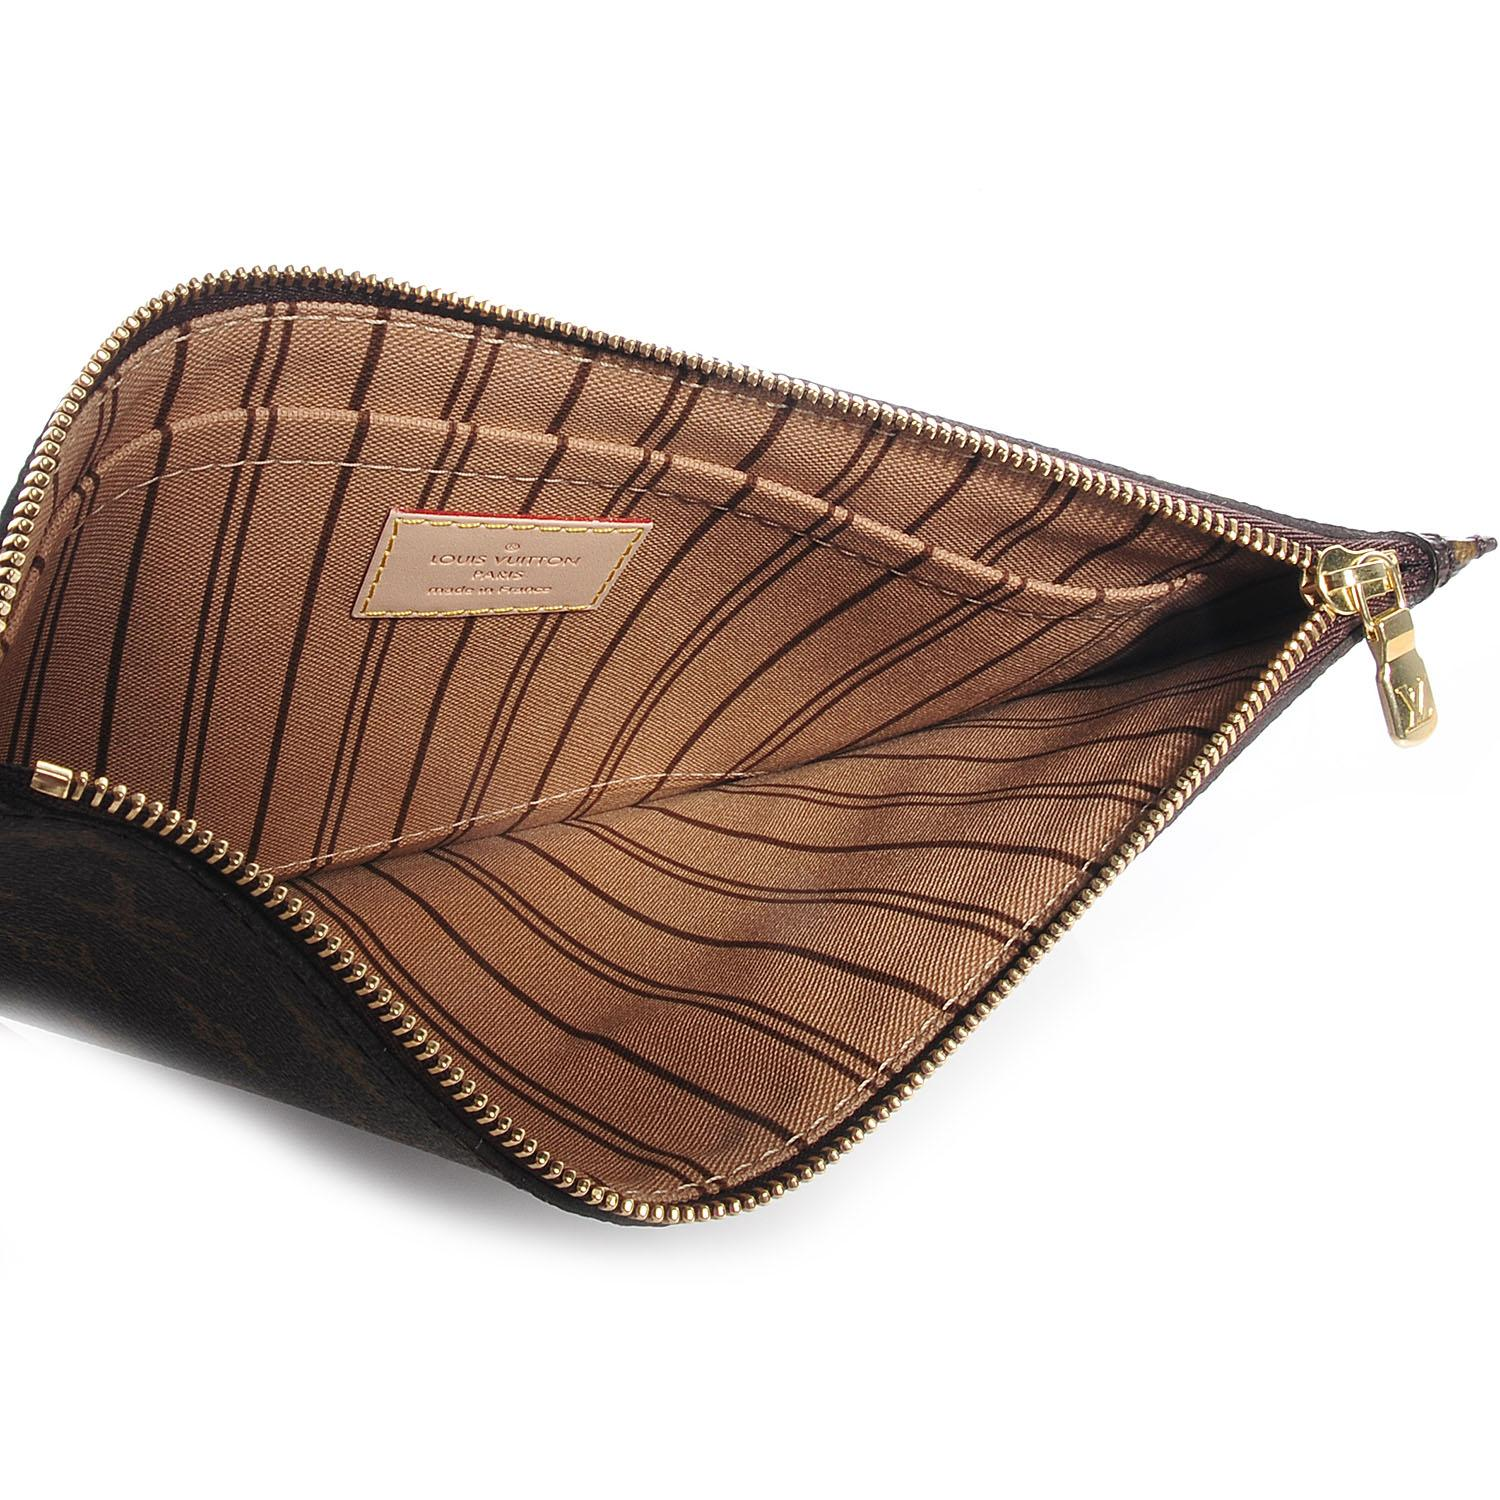LOUIS-VUITTON: (1396, 669, 1433, 735)
